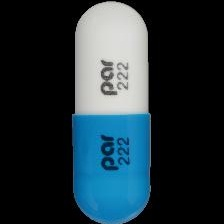49884-222: (0, 0, 224, 224)
